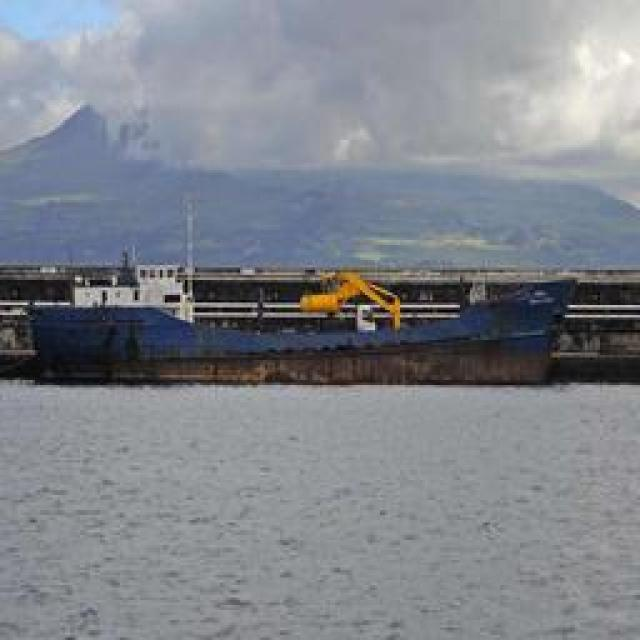ship2: (31, 190, 575, 387)
